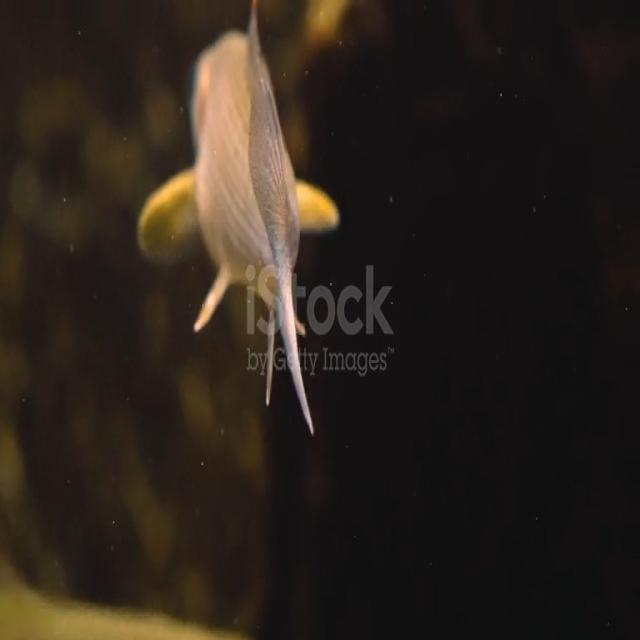fish: (140, 0, 342, 439)
